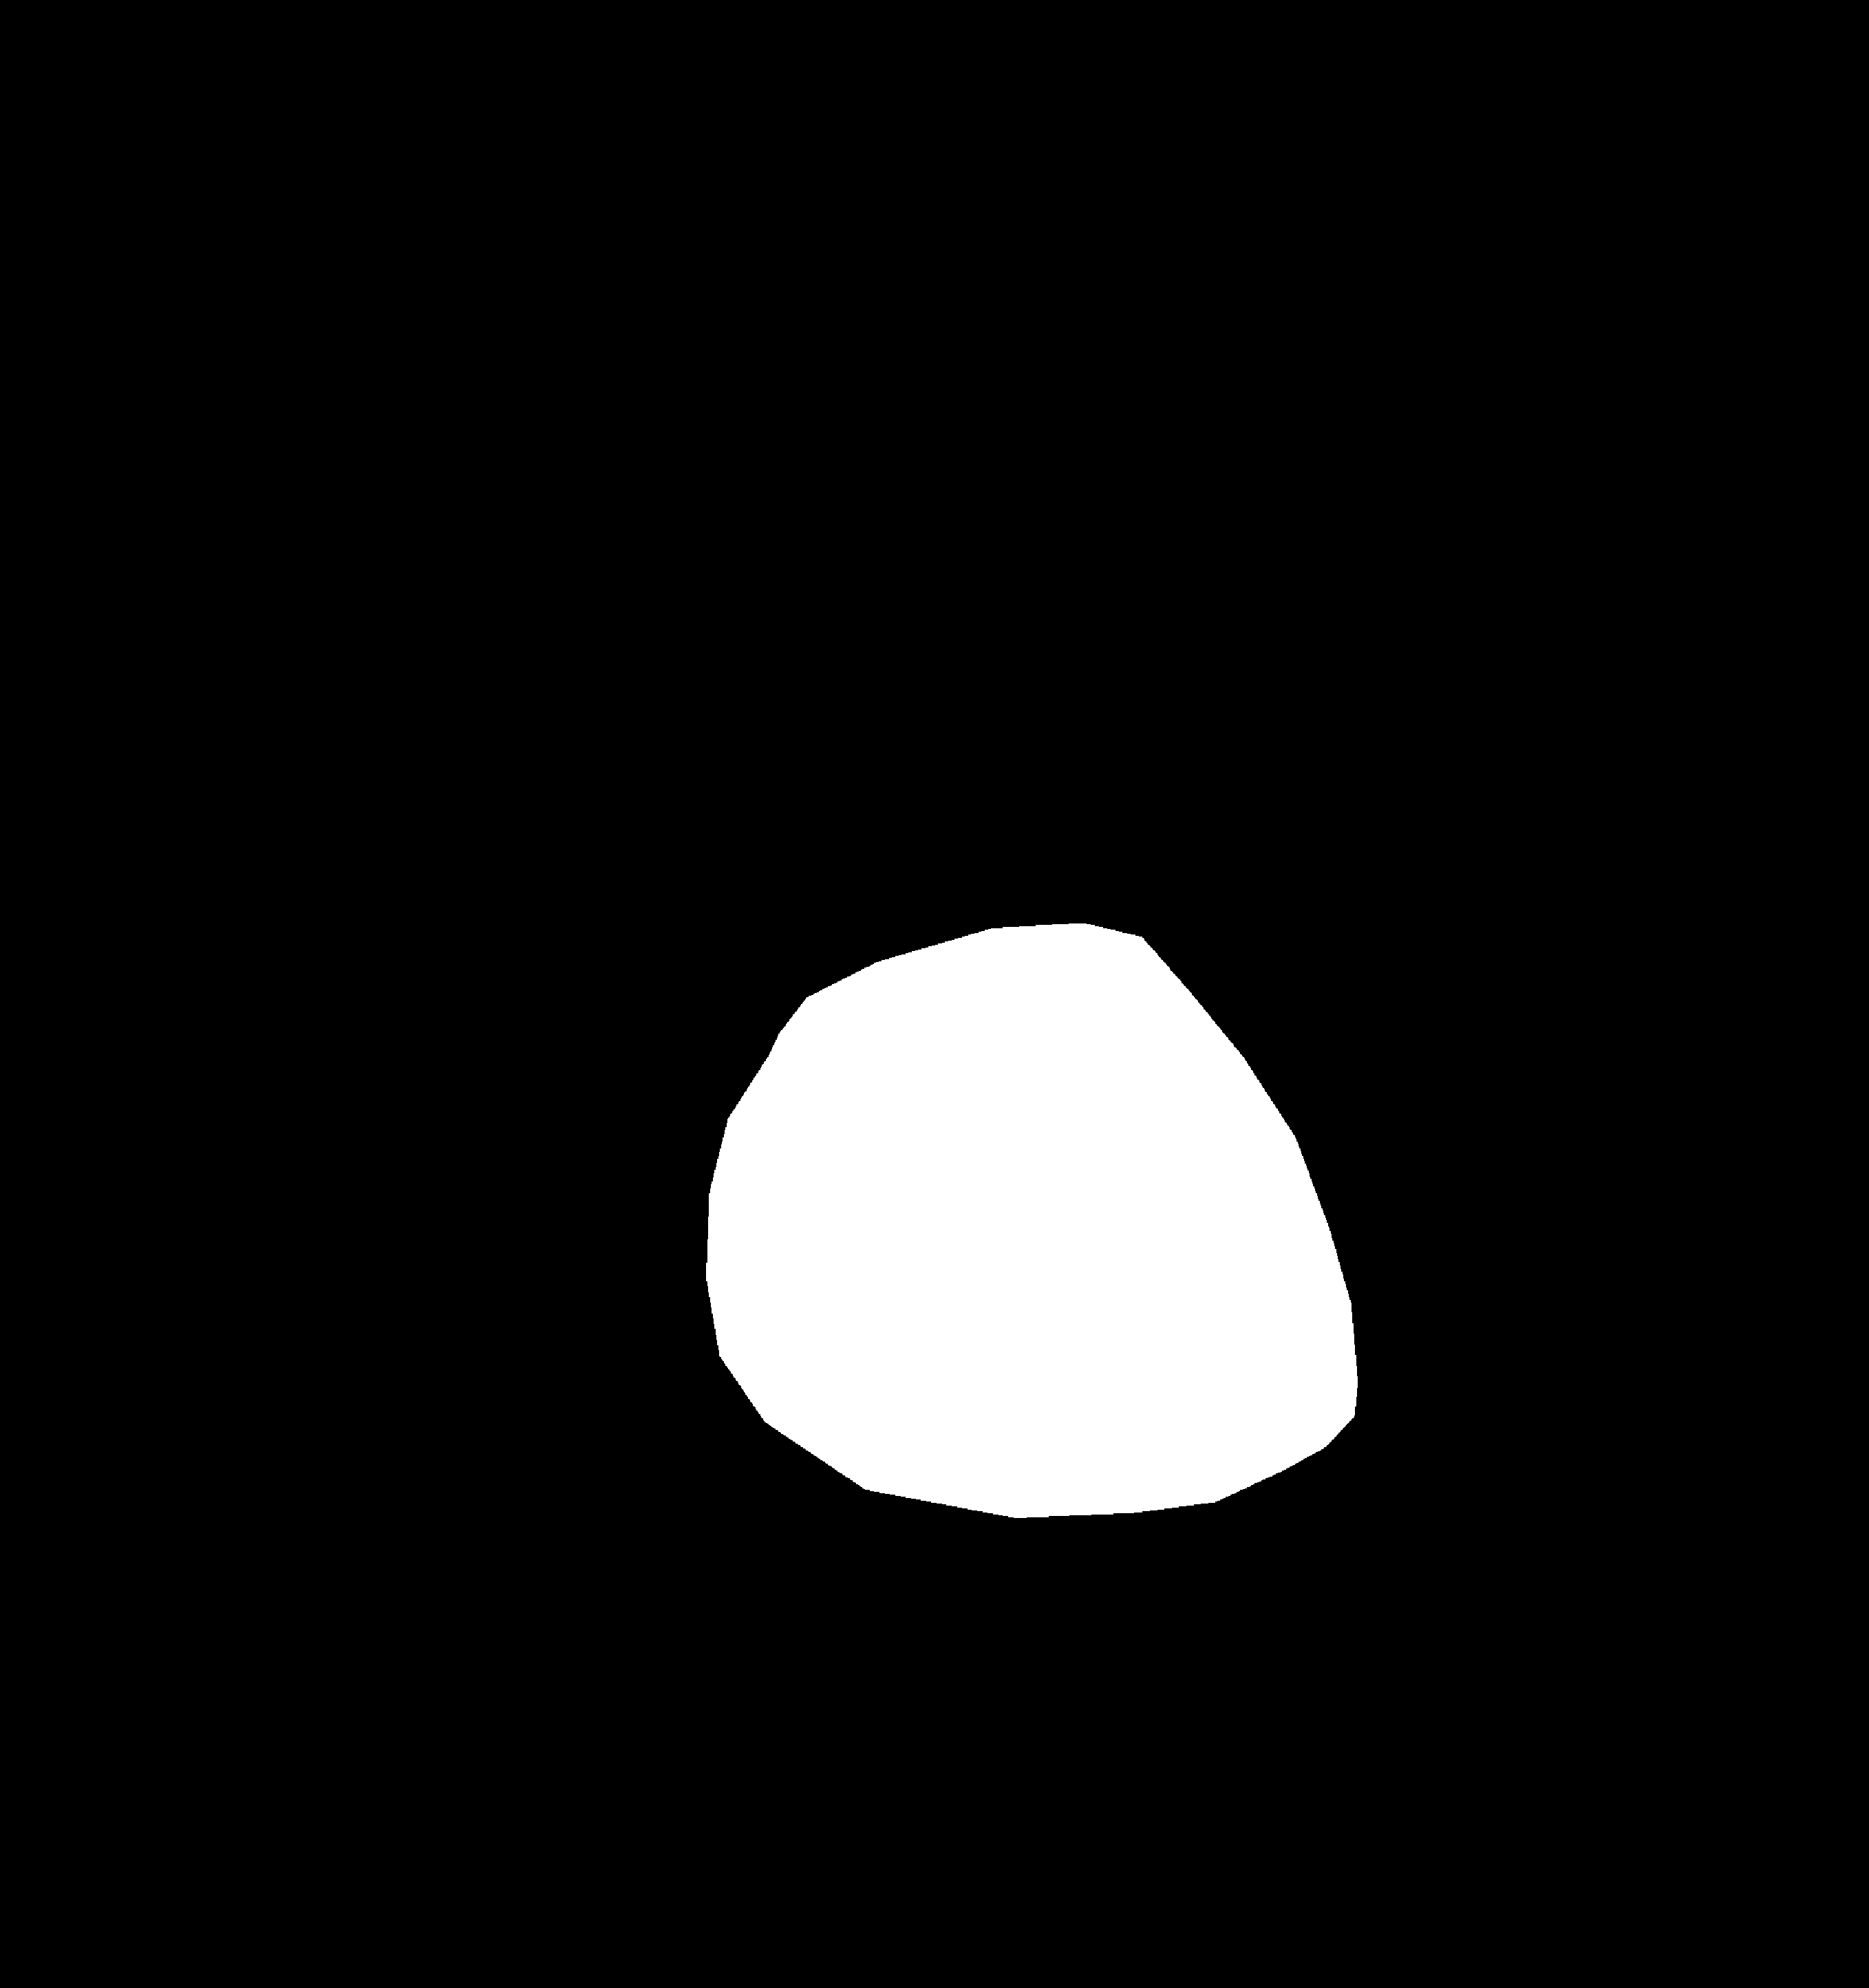heart: (706, 1024, 1375, 1510)
left_lung: (209, 306, 884, 1596)
right_lung: (1036, 297, 1667, 1575)
